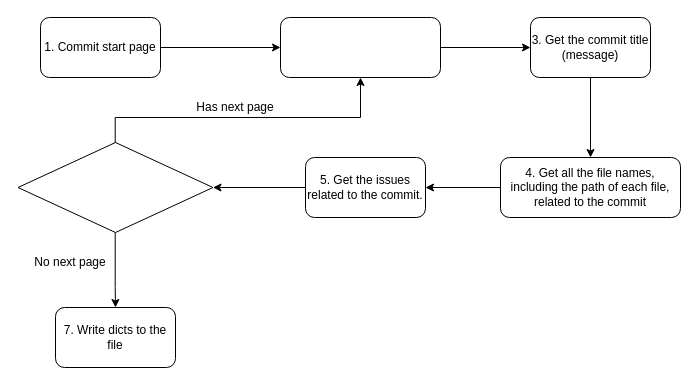
Some shapes in this 698 by 385 pixel diagram are drawn without their labels. Each missing label, with the box of its shape:
2. Go through each commit record on the current page: (280, 16, 440, 78)
6.Add commit, issues and files to the dict property: (17, 142, 213, 232)
